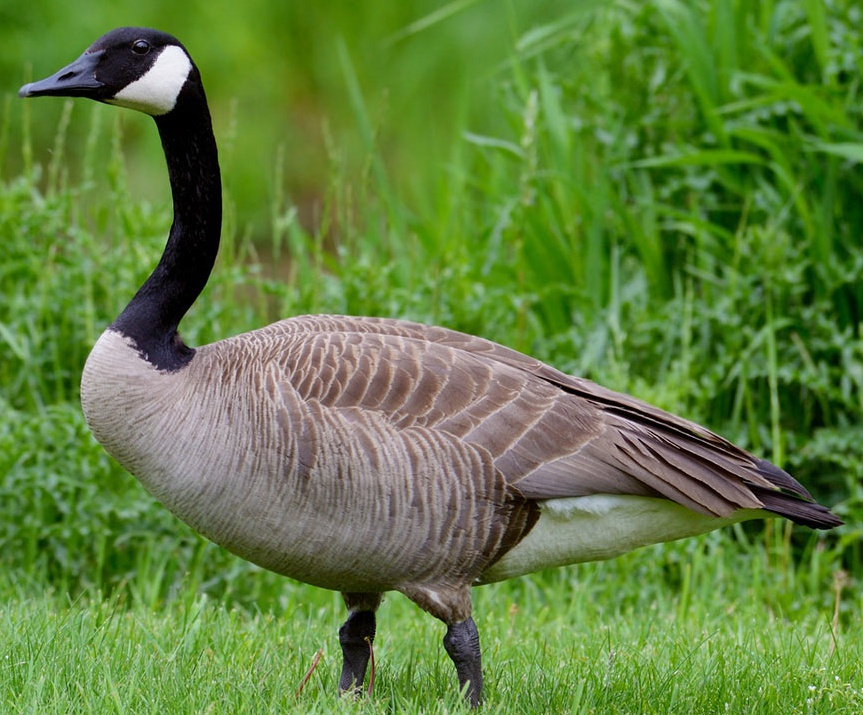goose: (11, 16, 854, 704)
